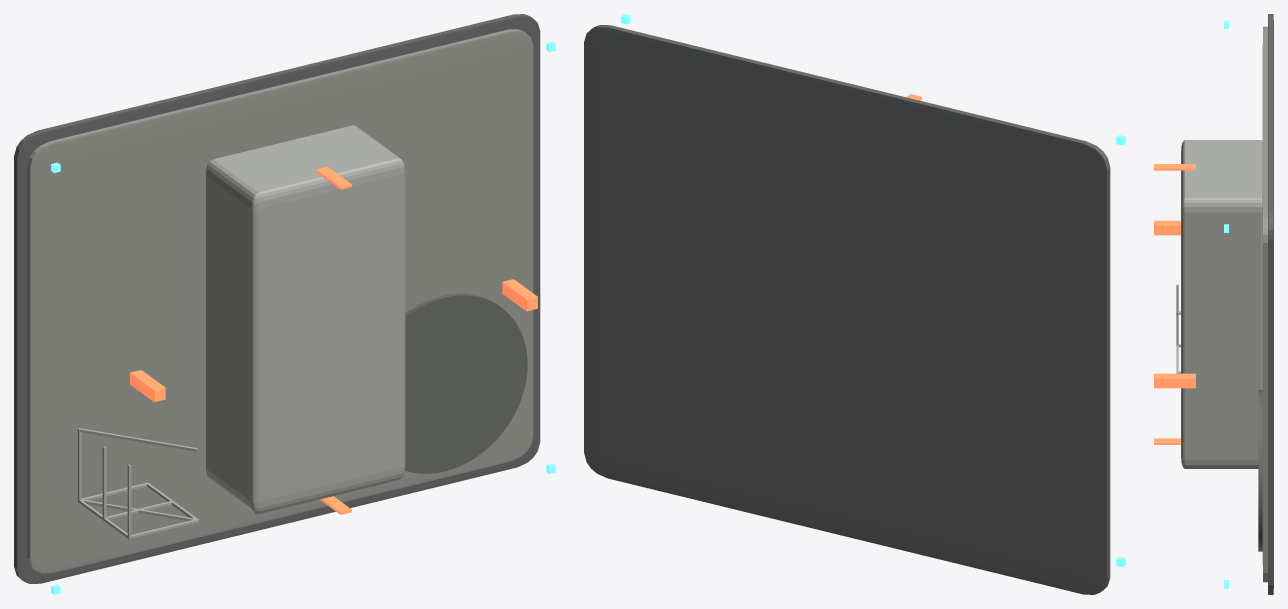
File: b-40-medical-center-lod2.glb
3 renders of one model, left to right at view 1: azimuth 30°, elevation 25°; view 2: azimuth 150°, elevation 25°; view 3: azimuth 270°, elevation 25°, orthographic. The views are drawn at different scales.
Visible parts, largest first — view 1: foundation_inner_pad, hospital_core, foundation, primary_helipad, medical_cross_v_6.05_0, medical_cross_v_-6.05_0; view 2: foundation; view 3: hospital_core, foundation, foundation_inner_pad, primary_helipad, medical_cross_v_6.05_0, medical_cross_v_-6.05_0, medical_cross_v_0_5.05, medical_cross_v_0_-5.05, decon_shower_beam_y_2_w.
Boxes of the visible parts, x1=… form: foundation_inner_pad: x1=27, y1=29, x2=533, y2=573; hospital_core: x1=205, y1=125, x2=405, y2=514; foundation: x1=14, y1=14, x2=540, y2=583; primary_helipad: x1=405, y1=293, x2=527, y2=473; medical_cross_v_6.05_0: x1=502, y1=279, x2=537, y2=311; medical_cross_v_-6.05_0: x1=130, y1=370, x2=165, y2=402; foundation: x1=584, y1=25, x2=1110, y2=594; hospital_core: x1=1181, y1=140, x2=1262, y2=468; foundation: x1=1268, y1=14, x2=1273, y2=594; foundation_inner_pad: x1=1262, y1=26, x2=1267, y2=582; primary_helipad: x1=1258, y1=390, x2=1262, y2=551; medical_cross_v_6.05_0: x1=1154, y1=373, x2=1195, y2=388; medical_cross_v_-6.05_0: x1=1154, y1=220, x2=1180, y2=235; medical_cross_v_0_5.05: x1=1154, y1=164, x2=1195, y2=170; medical_cross_v_0_-5.05: x1=1154, y1=438, x2=1180, y2=444; decon_shower_beam_y_2_w: x1=1176, y1=284, x2=1178, y2=345.
Size of what is drawn, in the model's own units: 17 by 14 by 4.
